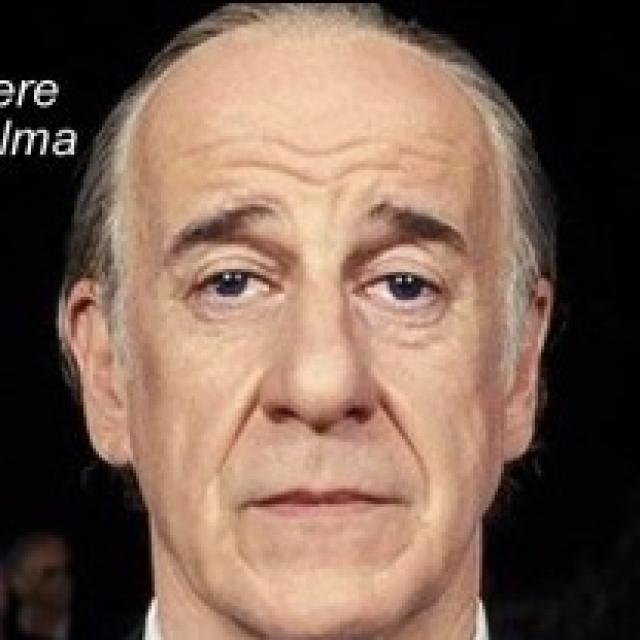Depress: (120, 31, 516, 637)
